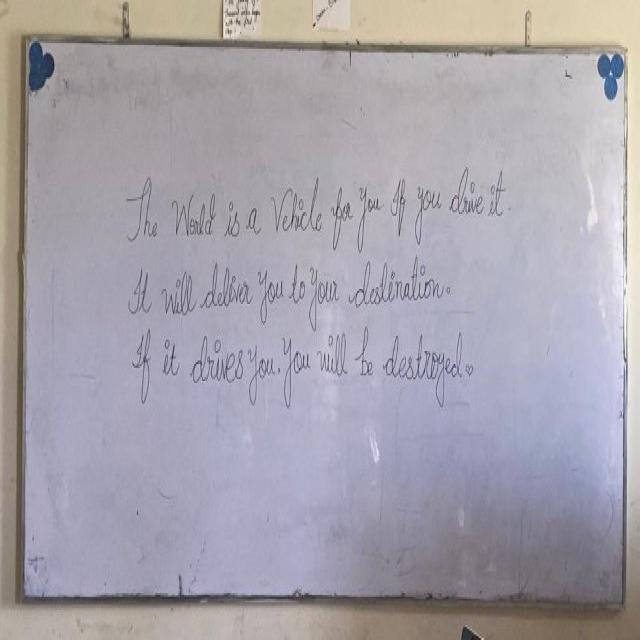White-board: (23, 30, 630, 604)
